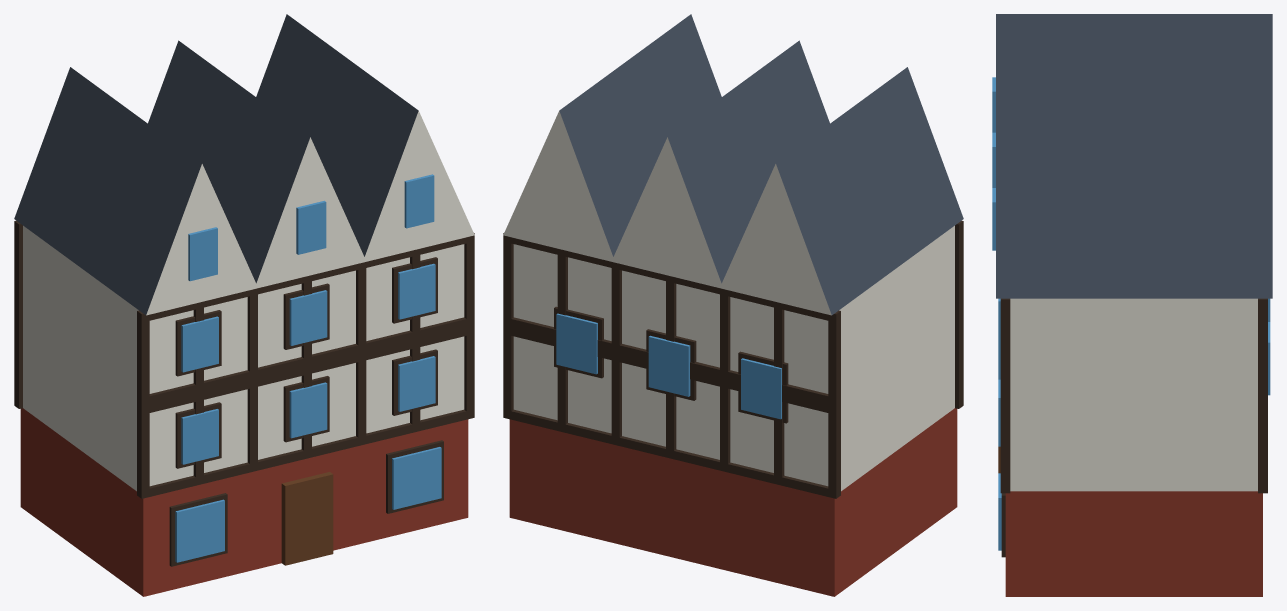
File: 39_kgd_fishing_village_3.obj
3 views of the same model, side by side, from view 1: azimuth 30°, elevation 25°; view 2: azimuth 150°, elevation 25°; view 3: azimuth 270°, elevation 25° (orthographic). The views are drawn at different scales.
Parts seen in each view (by area): view 1: 39_kgd_fishing_village_3; view 2: 39_kgd_fishing_village_3; view 3: 39_kgd_fishing_village_3.
Part boxes in pixels (<box>): 39_kgd_fishing_village_3: <box>14,14,474,596</box>; 39_kgd_fishing_village_3: <box>503,14,963,596</box>; 39_kgd_fishing_village_3: <box>992,14,1272,596</box>.
Bounding box in the file's own units: 1.66 × 2.02 × 1.15.
